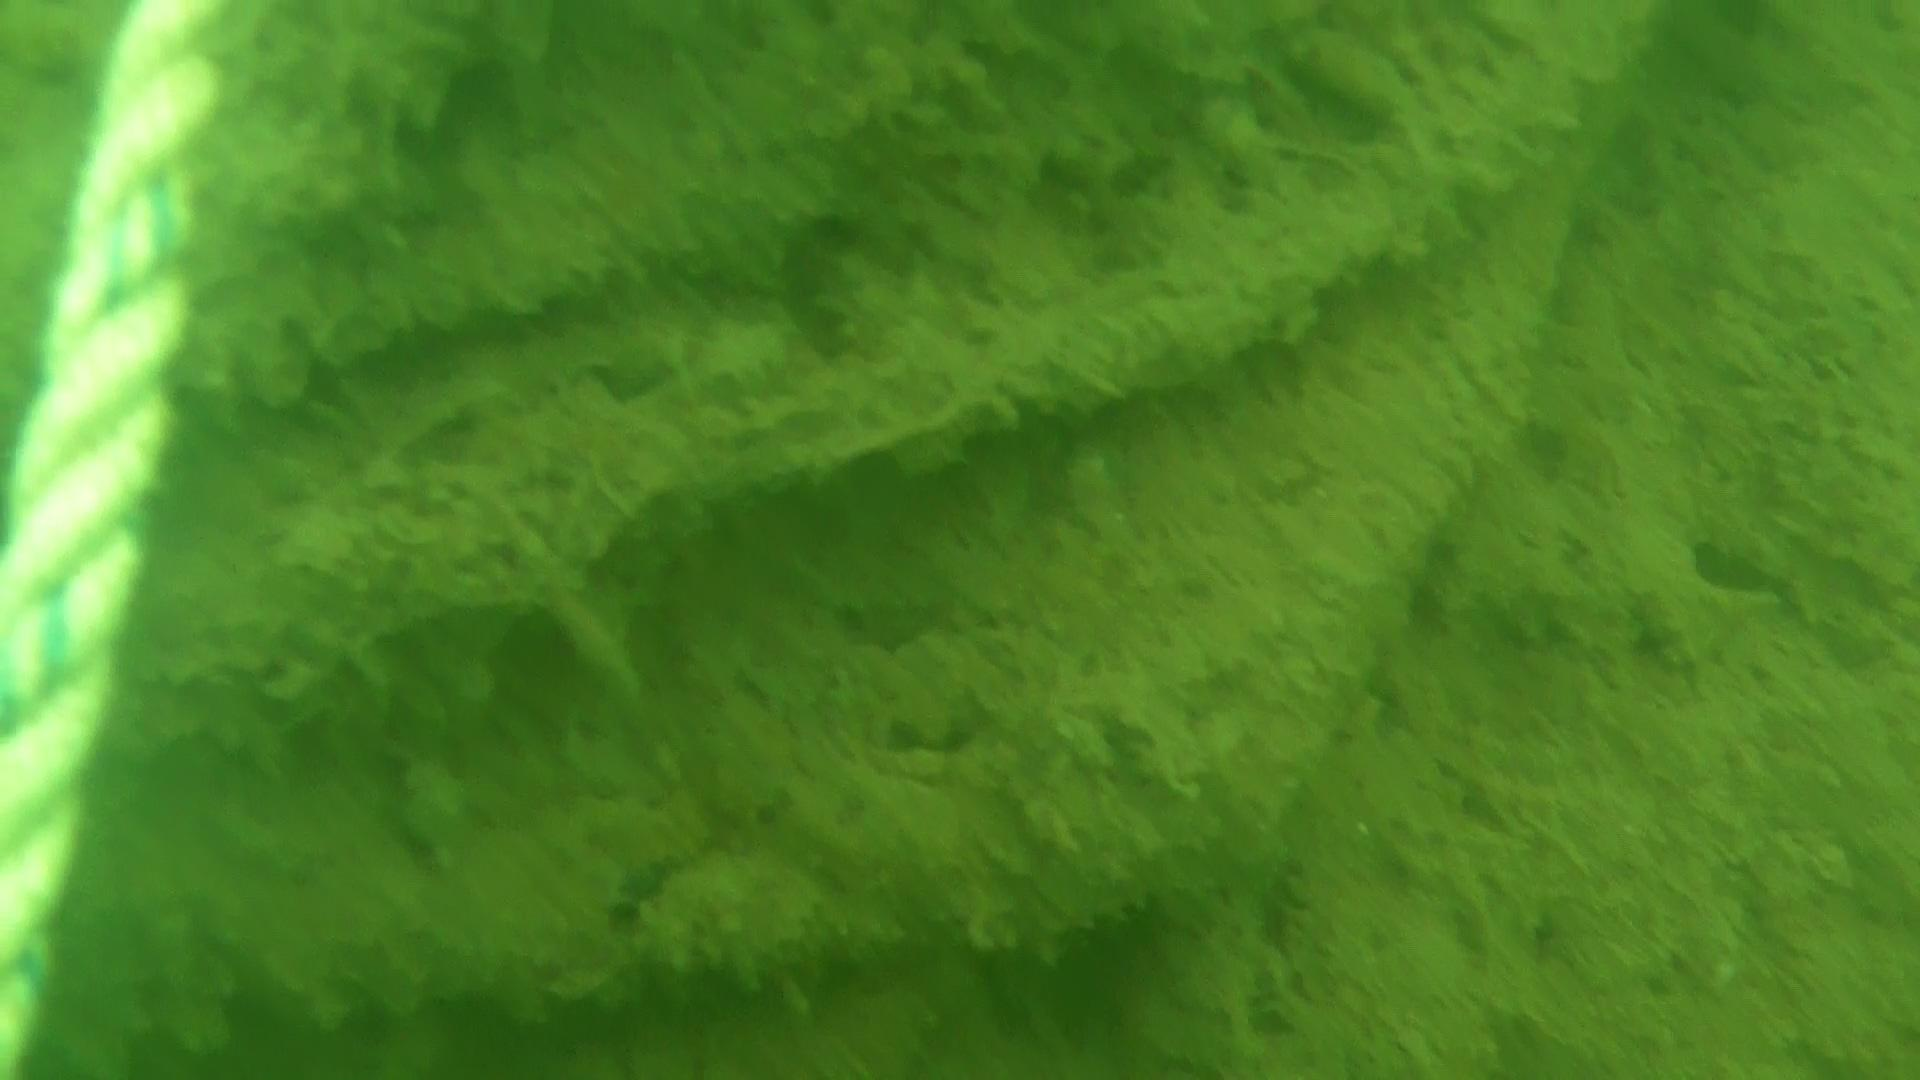rope: (0, 0, 262, 1080)
